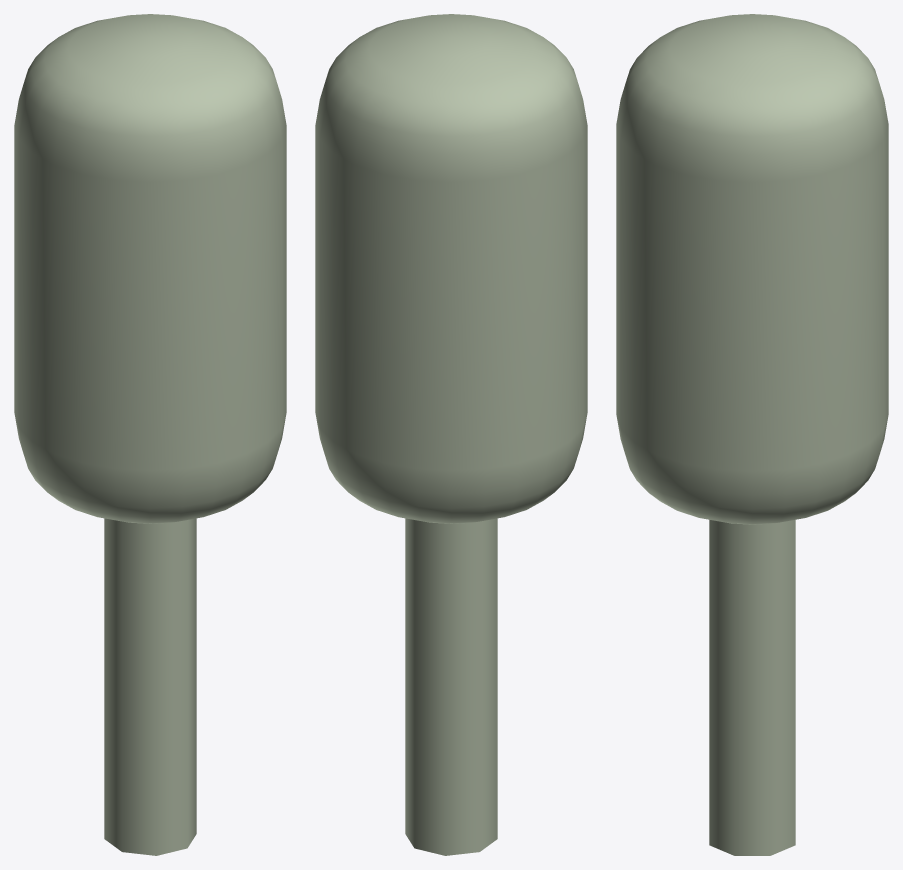
Rendered from CarnegieaSaguaro.glb.
3 renders of one model, left to right at view 1: azimuth 30°, elevation 25°; view 2: azimuth 150°, elevation 25°; view 3: azimuth 270°, elevation 25°, orthographic.
Parts seen in each view (by area): view 1: Saguaro_Cactus__Schematic_LOD3; view 2: Saguaro_Cactus__Schematic_LOD3; view 3: Saguaro_Cactus__Schematic_LOD3.
Part boxes in pixels (left/top/right/bottom): Saguaro_Cactus__Schematic_LOD3: left=14, top=14, right=286, bottom=855; Saguaro_Cactus__Schematic_LOD3: left=315, top=14, right=587, bottom=855; Saguaro_Cactus__Schematic_LOD3: left=616, top=14, right=888, bottom=855.
Size of the model in its own units: 2.16 by 7 by 2.16.
